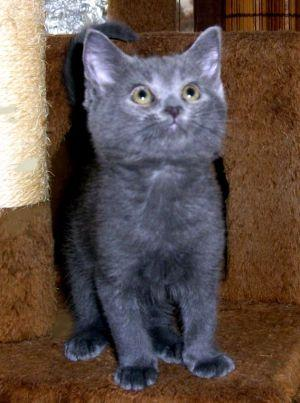rblue: (72, 1, 243, 171)
